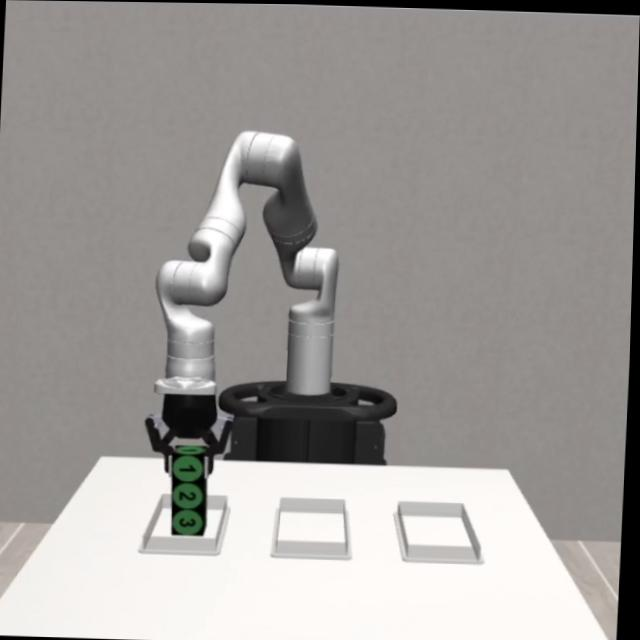cube1: (174, 442, 211, 483)
cube2: (174, 479, 212, 508)
cube3: (175, 506, 210, 536)
